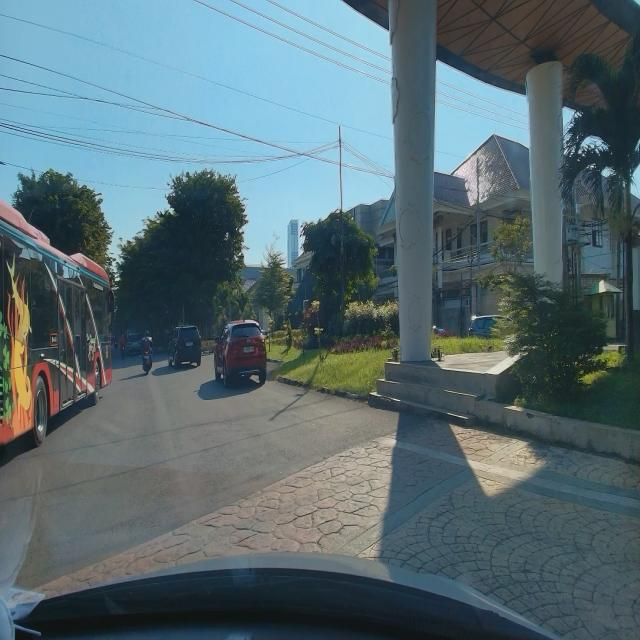bus: (0, 199, 113, 443)
car: (213, 320, 268, 390), (168, 322, 202, 370)
license-plate: (243, 346, 254, 352), (186, 342, 193, 346)
